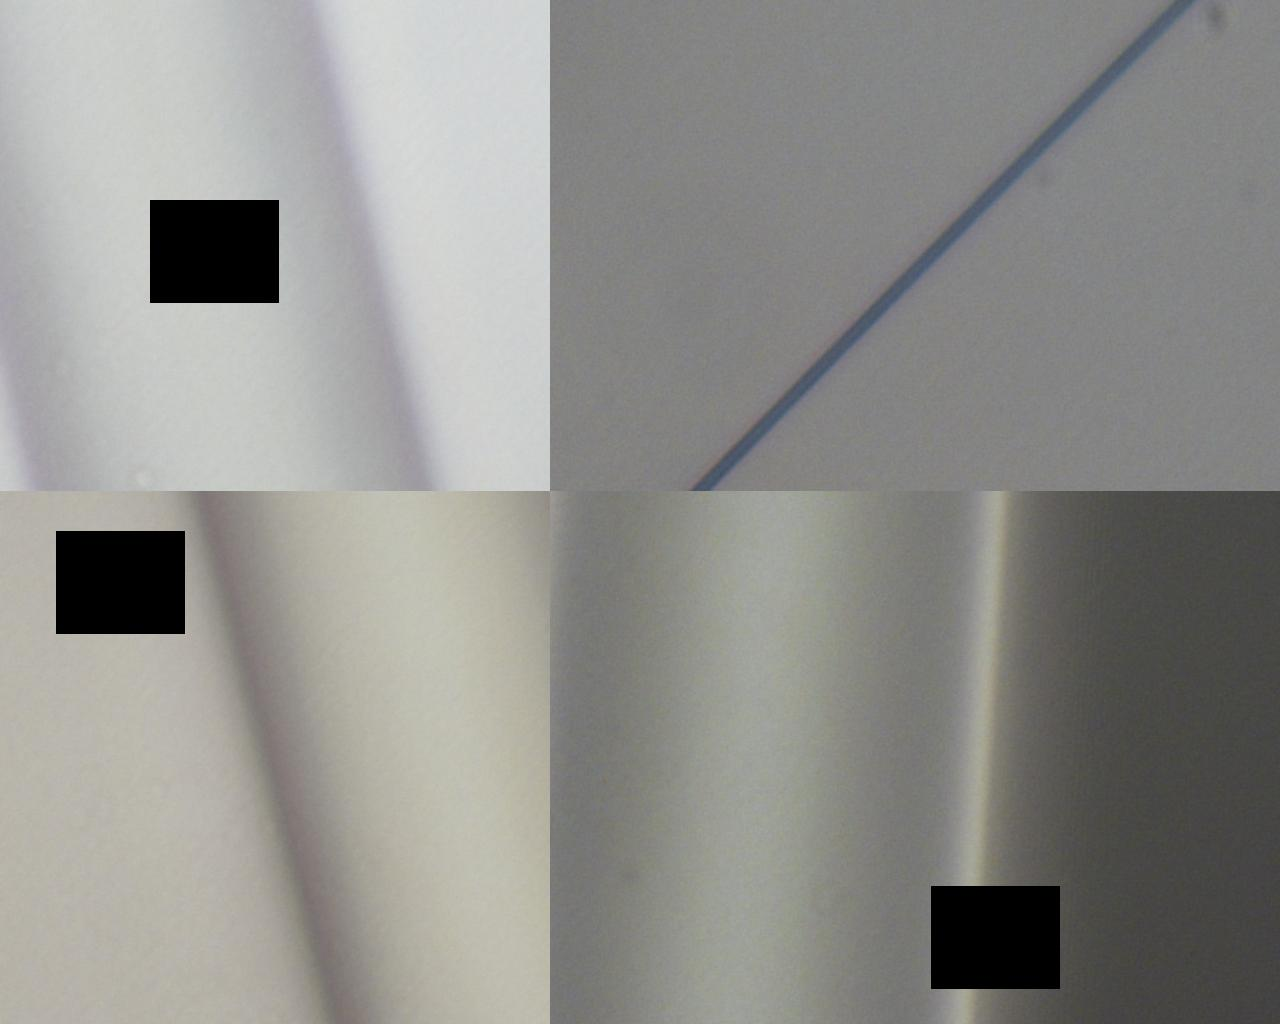fiber: (0, 703, 772, 987), (883, 506, 1280, 933)
